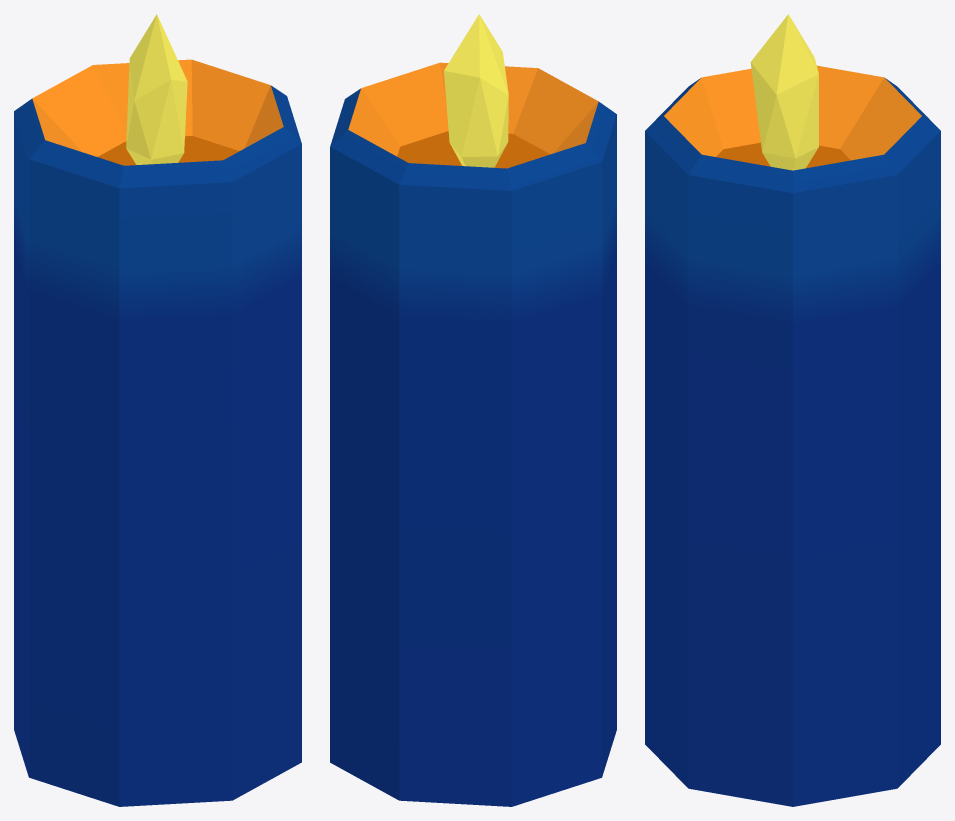
The model's file is vela-005.gltf.
The picture shows the model from 3 angles, left to right: view 1: azimuth 30°, elevation 25°; view 2: azimuth 150°, elevation 25°; view 3: azimuth 270°, elevation 25°; orthographic projection.
Parts seen in each view (by area): view 1: Vela_Azul-f.005; view 2: Vela_Azul-f.005; view 3: Vela_Azul-f.005.
Boxes of the visible parts, box(x1,y1,x2,y2) form: Vela_Azul-f.005: box(14, 14, 301, 806); Vela_Azul-f.005: box(330, 14, 616, 806); Vela_Azul-f.005: box(645, 14, 940, 806).
Bounding box in the file's own units: 0.0971 × 0.2641 × 0.0971.
Materials: 1 (1 with a texture image).
